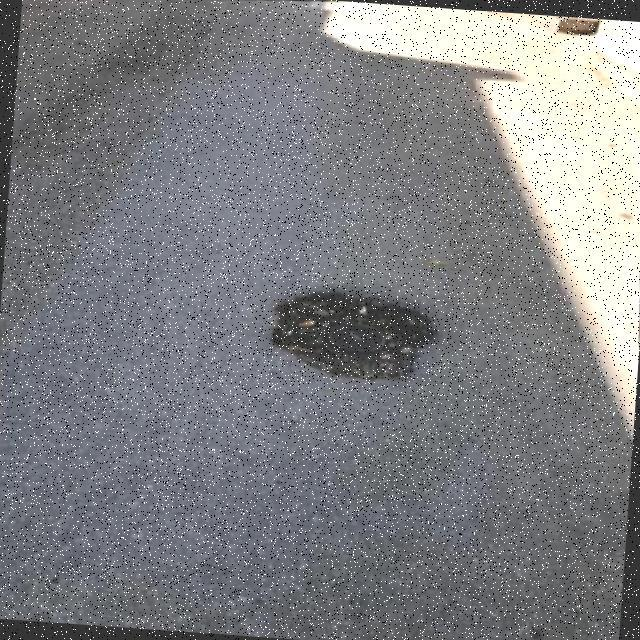Pothole: (269, 292, 436, 381)
